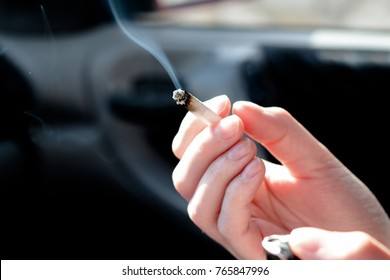cigarette: (169, 86, 228, 127)
